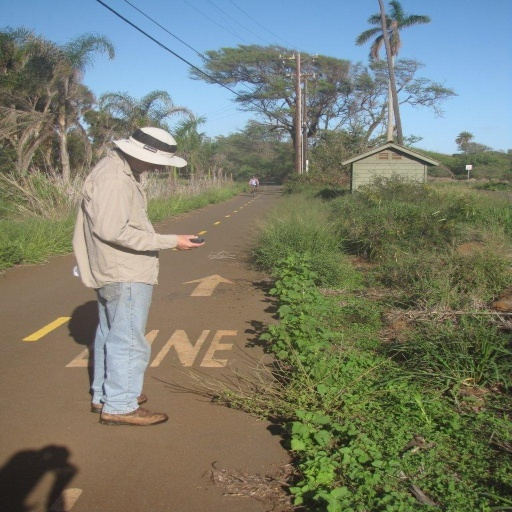hand: (152, 220, 202, 256)
